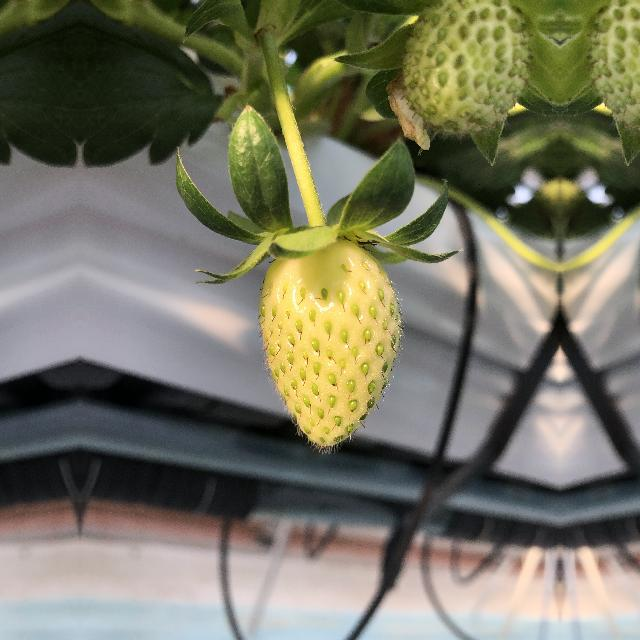Health_25: (257, 234, 409, 448), (400, 0, 534, 136), (586, 0, 640, 136)
